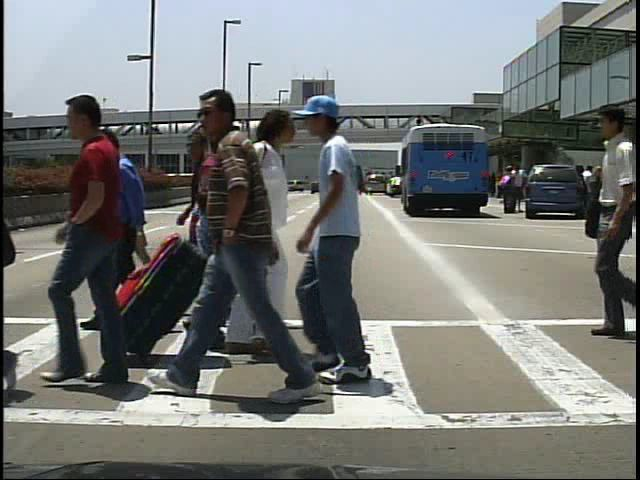person: (183, 84, 318, 423), (36, 91, 153, 389), (187, 103, 301, 363), (304, 104, 404, 385), (78, 122, 161, 342), (572, 104, 640, 342), (212, 134, 286, 330), (175, 129, 248, 322), (192, 121, 250, 361), (188, 186, 230, 318), (582, 165, 602, 218), (498, 166, 516, 219), (514, 165, 530, 215)
